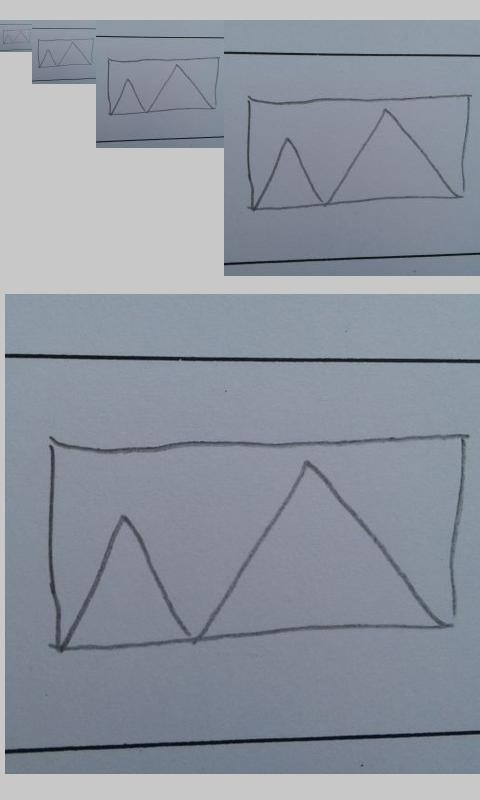image_view: (44, 433, 467, 653), (245, 92, 472, 211), (106, 56, 221, 116), (37, 38, 94, 68), (2, 28, 31, 45)
